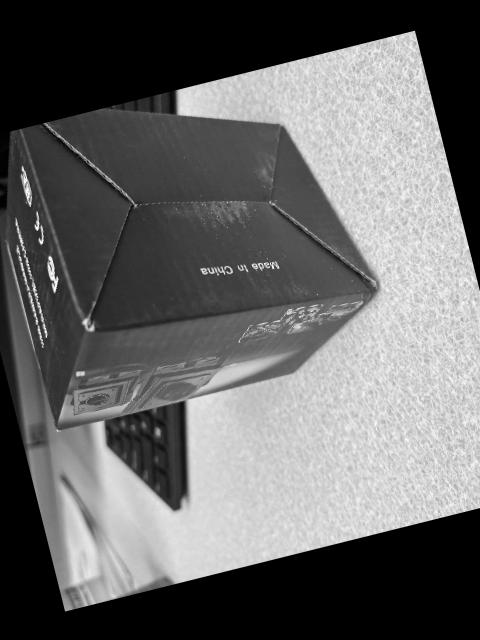CameraBox2: (6, 106, 380, 428)
